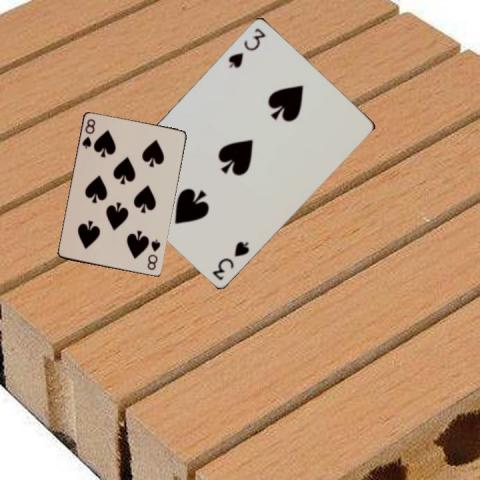3s: (224, 24, 266, 69), (209, 238, 251, 281)
8s: (79, 116, 97, 150), (145, 237, 162, 272)
